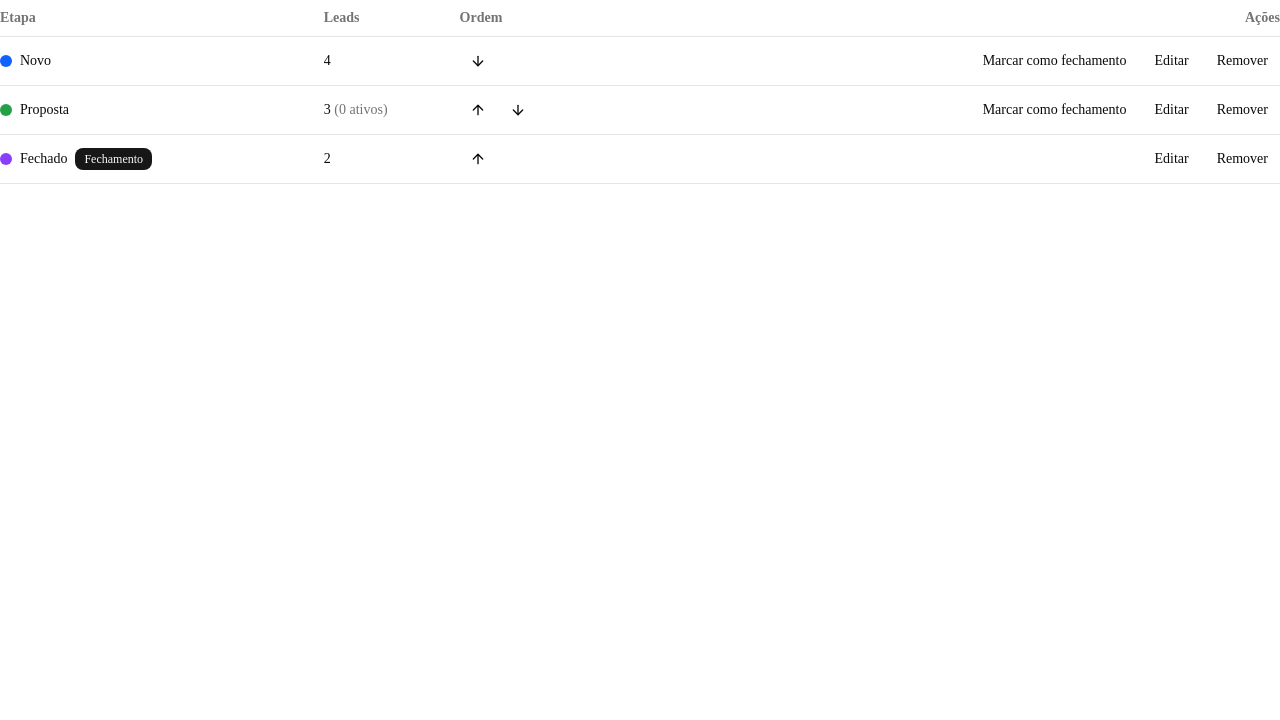
Test: EtapasTable — exclusão › etapa COM leads exige destino: confirmar fica desabilitado até escolher
Click the button with aria-label "Remover etapa" at (1242, 110), box [1205, 94, 1279, 126]
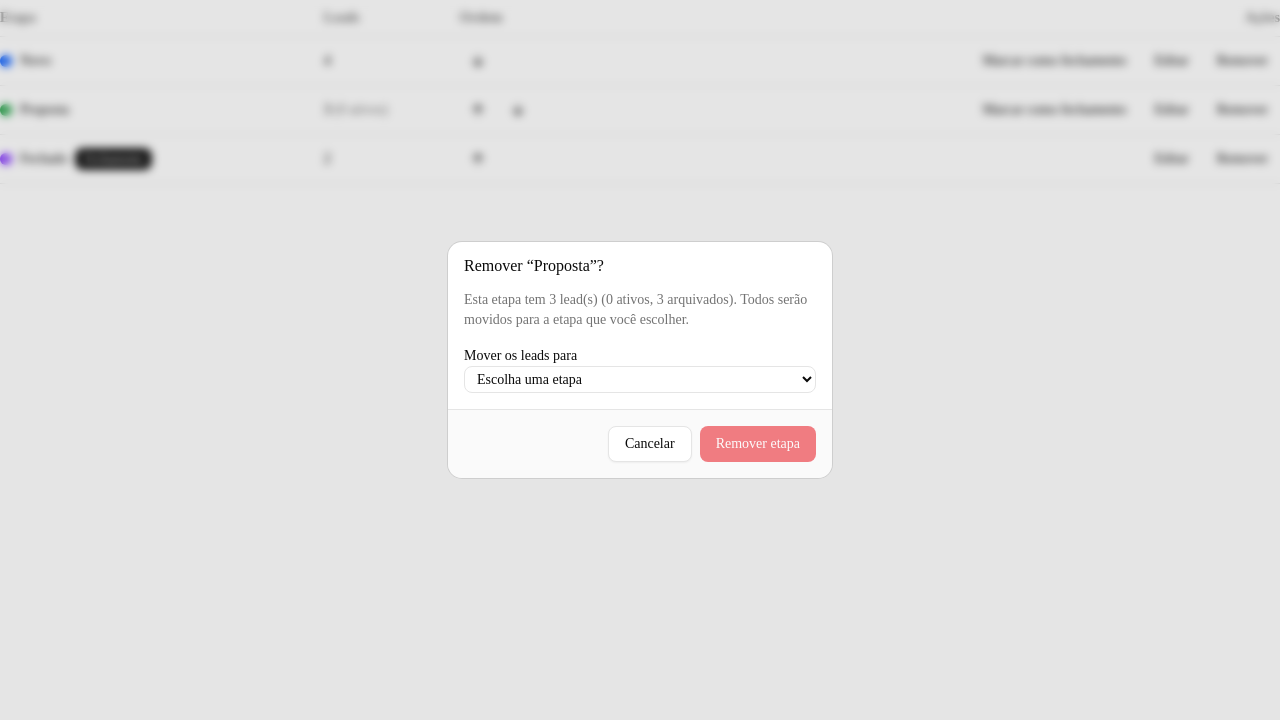
Expected: the button "Remover etapa" is disabled, [700, 426, 816, 462]
Select "Novo" in the dropdown labelled "Mover os leads para" at (640, 380), box [464, 366, 816, 393]
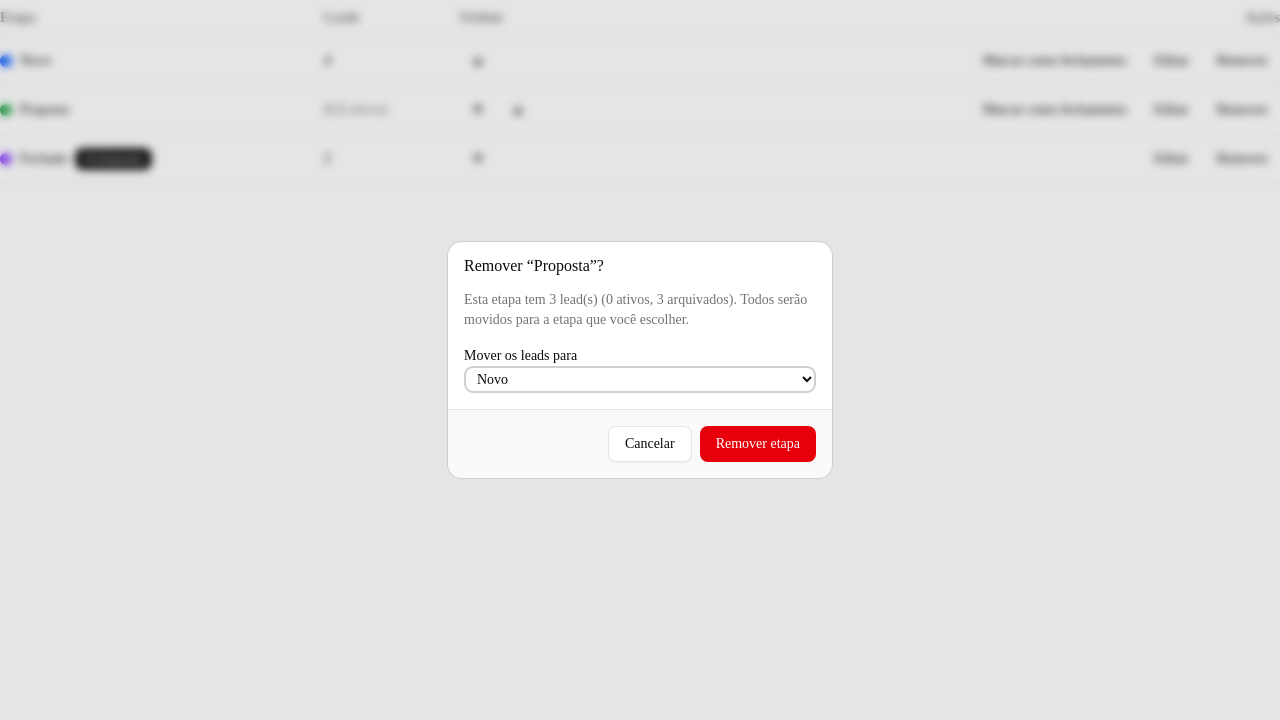
Expected: the button "Remover etapa" is enabled, [700, 426, 816, 462]
